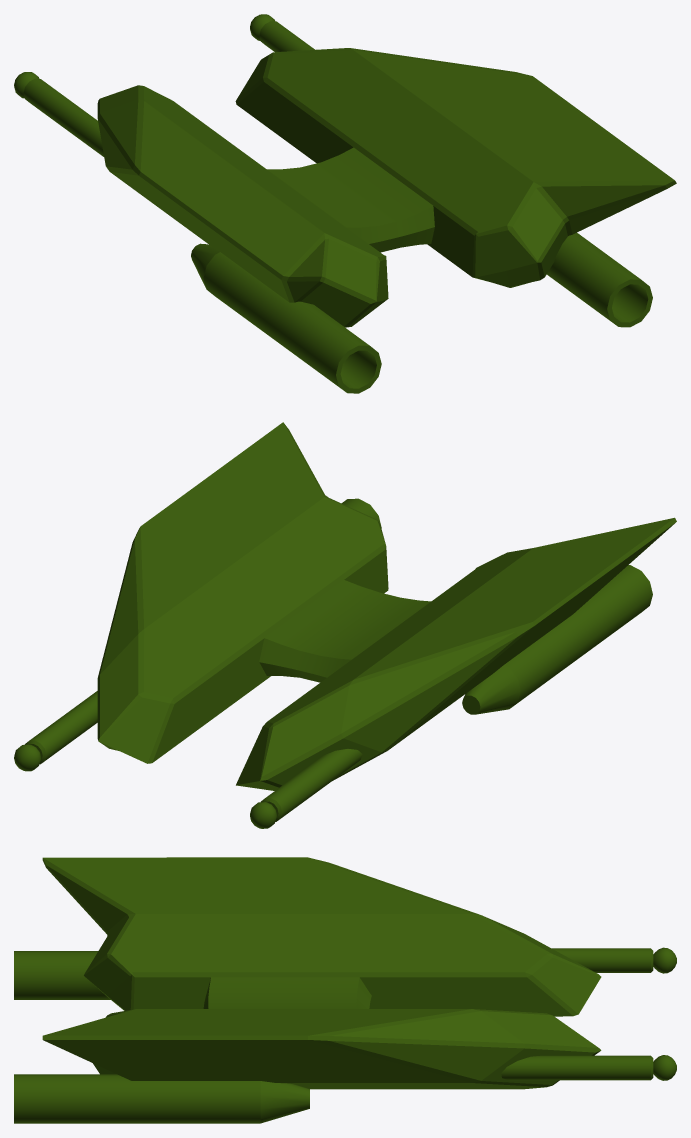
File: Frigate.glb
3 views of the same model, one above another, from view 1: azimuth 30°, elevation 25°; view 2: azimuth 150°, elevation 25°; view 3: azimuth 270°, elevation 25° (orthographic). The views are drawn at different scales.
Visible parts, largest first — view 1: Plane 018, Cube 005, Origin Frigate, Cube 019; view 2: Plane 018, Origin Frigate, Cube 005, Cube 019; view 3: Plane 018, Cube 005, Cube 019, Origin Frigate.
Boxes of the visible parts, x1,y1,x2,y2 form: Plane 018: (97, 48, 676, 327); Cube 005: (191, 232, 652, 393); Origin Frigate: (267, 147, 434, 252); Cube 019: (14, 14, 314, 156); Plane 018: (97, 422, 676, 790); Origin Frigate: (259, 580, 430, 682); Cube 005: (341, 498, 652, 714); Cube 019: (14, 691, 362, 828); Plane 018: (42, 857, 601, 1089); Cube 005: (14, 951, 309, 1123); Cube 019: (501, 947, 676, 1080); Origin Frigate: (203, 977, 371, 1008).
Bounding box in the file's own units: 17.22 × 5.04 × 26.8.
